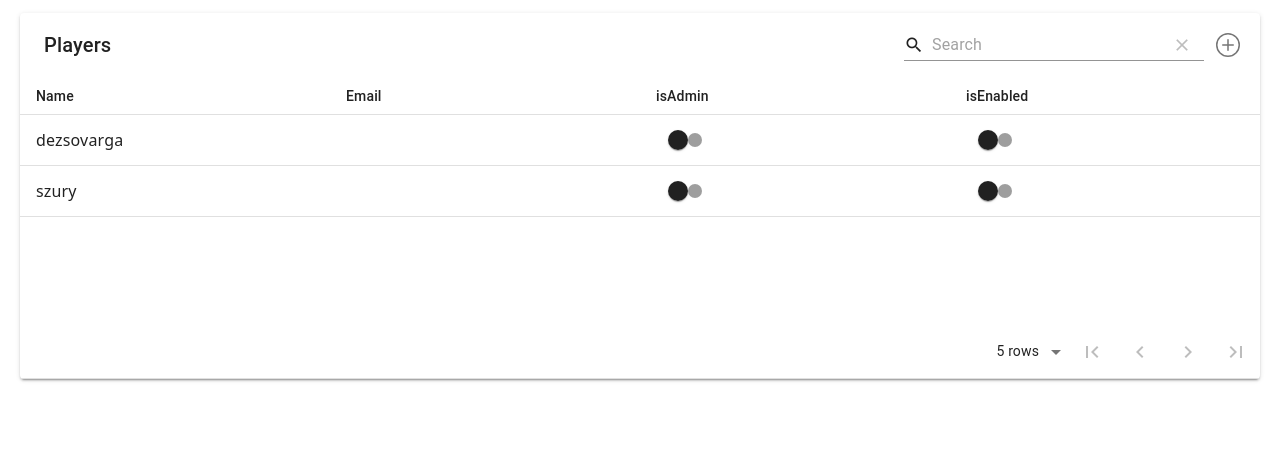
Scenario: PlayersTable component › Clicking on the isAdmin switch, success message is shown saying the update was successful
This screenshot has width=1280, height=474.
Click the element with test id "isAdminSwitch_1": {"x": 678, "y": 140} top-left (668, 133), bottom-right (688, 147)
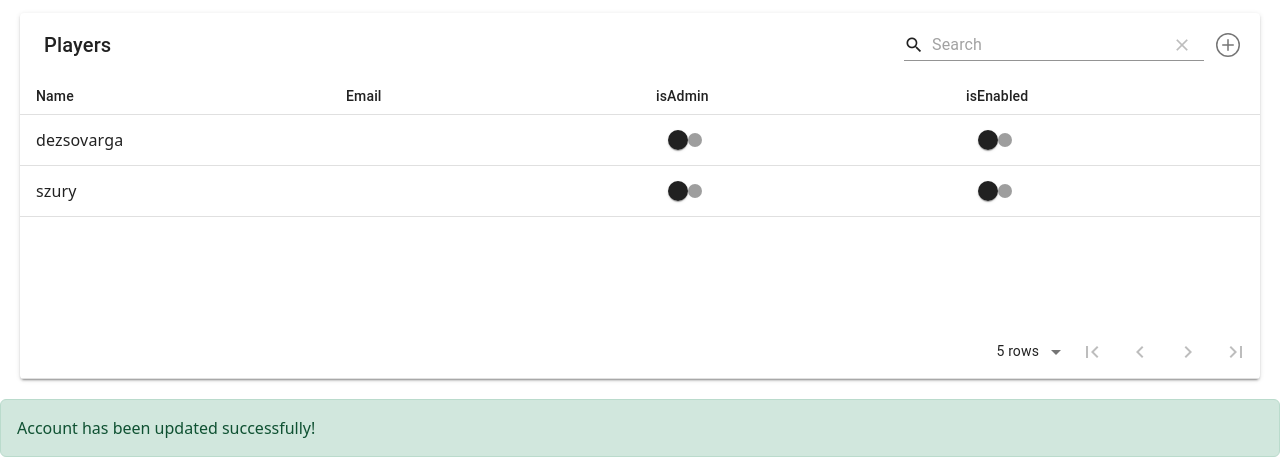
Expected: the message "Account has been updated successfully!" is shown, top-left (0, 399), bottom-right (1279, 457)
